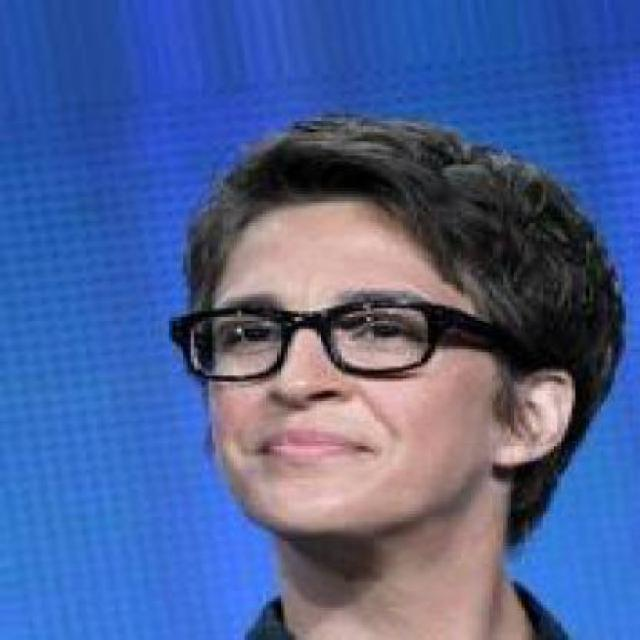closed-mouth: (261, 426, 370, 460)
